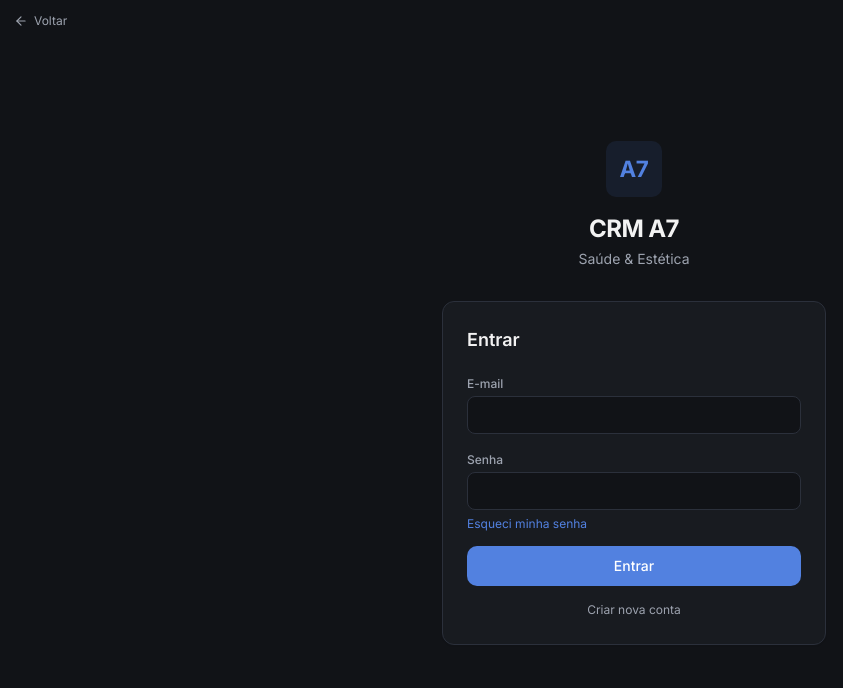
Test: tela de login › 'Voltar para entrar' volta ao login; o link não aparece em 'Criar conta'
What coordinates should you click on to do the following:
click the button "Esqueci minha senha"
I would click on:
 (527, 524)
Its box is [467,516,587,532].
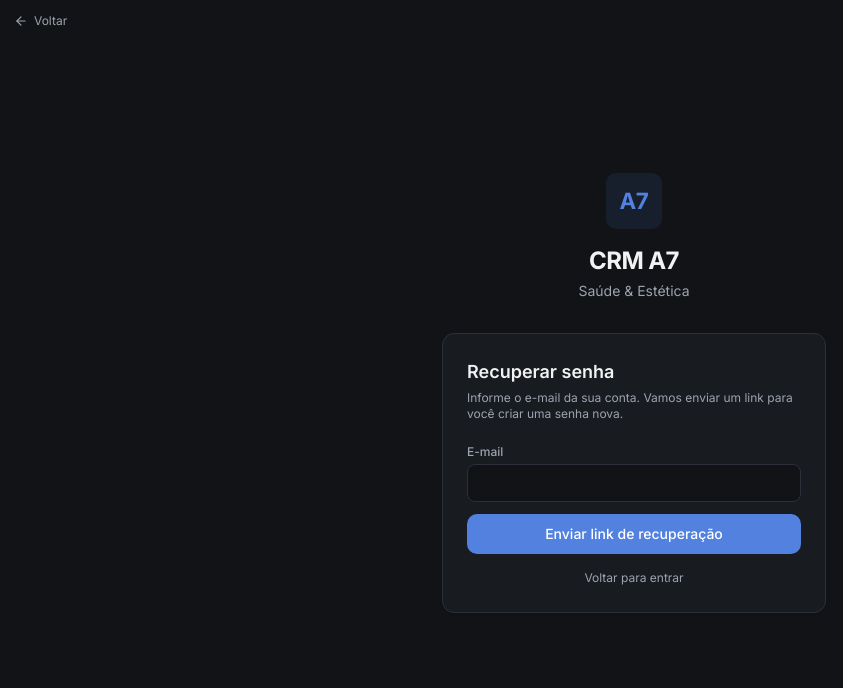
What coordinates should you click on to do the following:
click the button "Voltar para entrar"
I would click on:
 (634, 578)
Its box is [467,570,801,586].
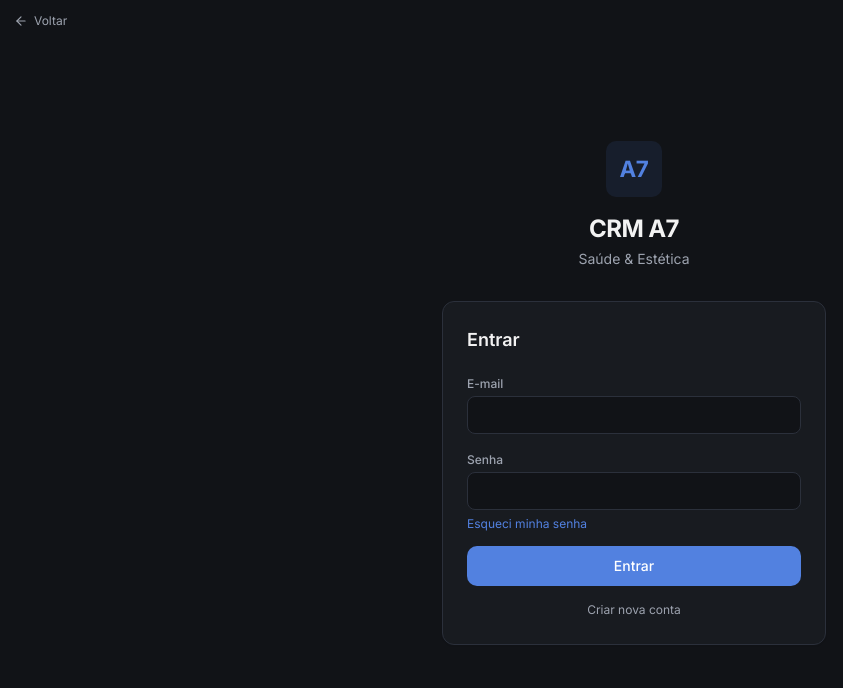
Check: the heading "Entrar" is shown, box [467,329,520,350]
What coordinates should you click on to do the following:
click the button "Criar nova conta"
I would click on:
 (634, 610)
Its box is [467,602,801,618].
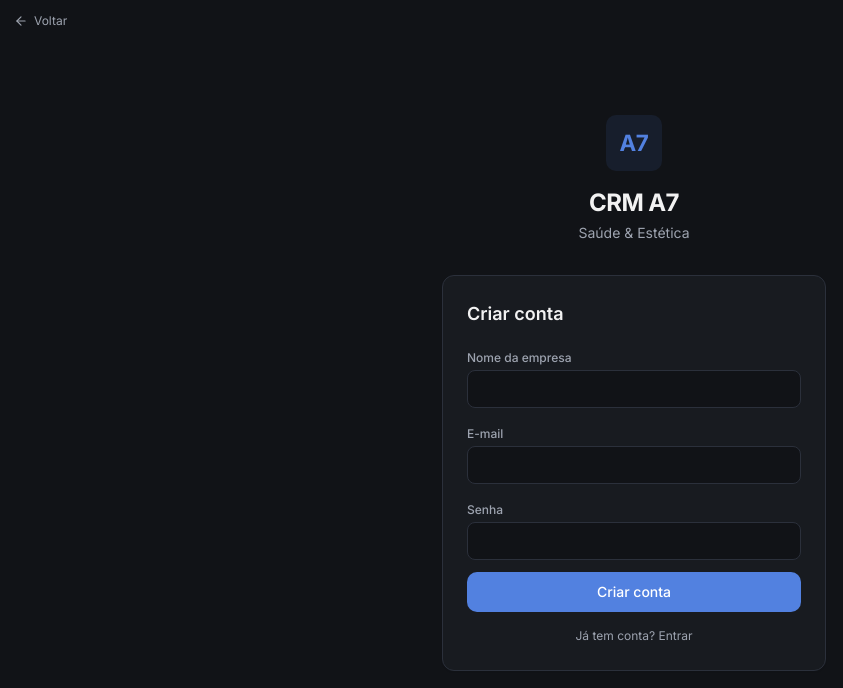
Check: the button "Esqueci minha senha" is gone
